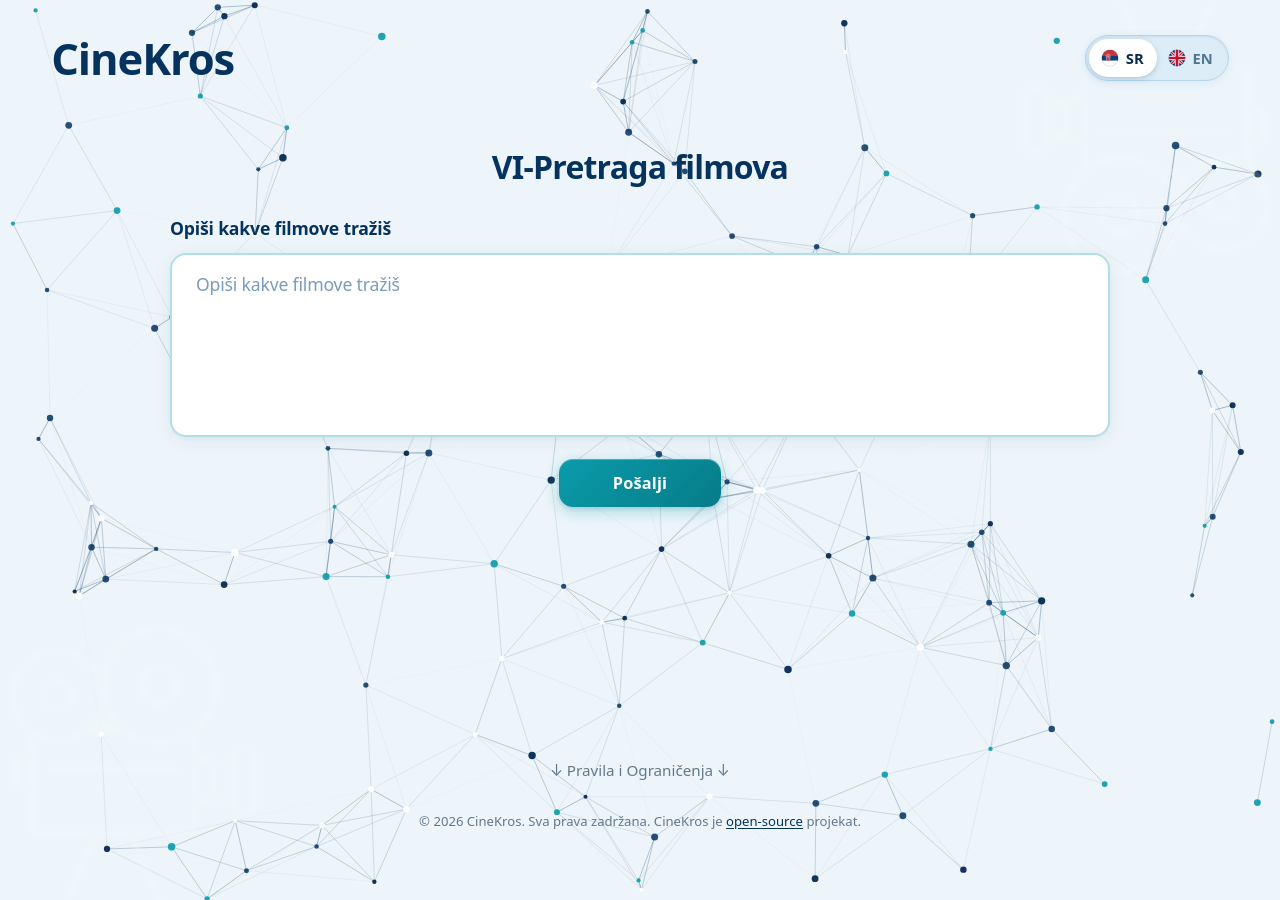
Test: language-aware v2.1 recommendation boundary › uses the selected English mode and exact English mismatch copy
The image size is (1280, 900).
Click the button "EN": (1190, 58) x1=1156 y1=39 x2=1225 y2=77
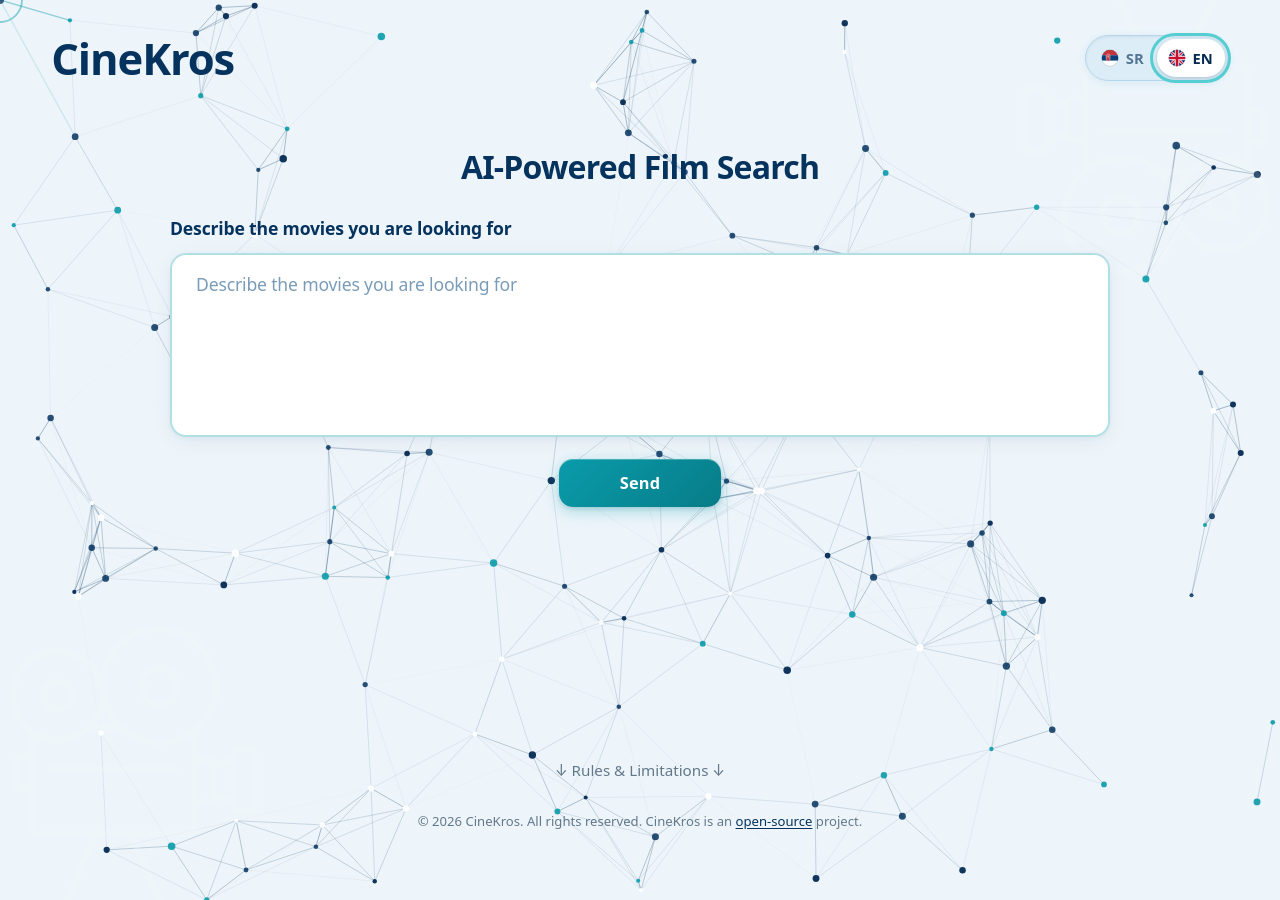
In the text box: (640, 345) x1=170 y1=253 x2=1110 y2=437, type "Želim mračan film"
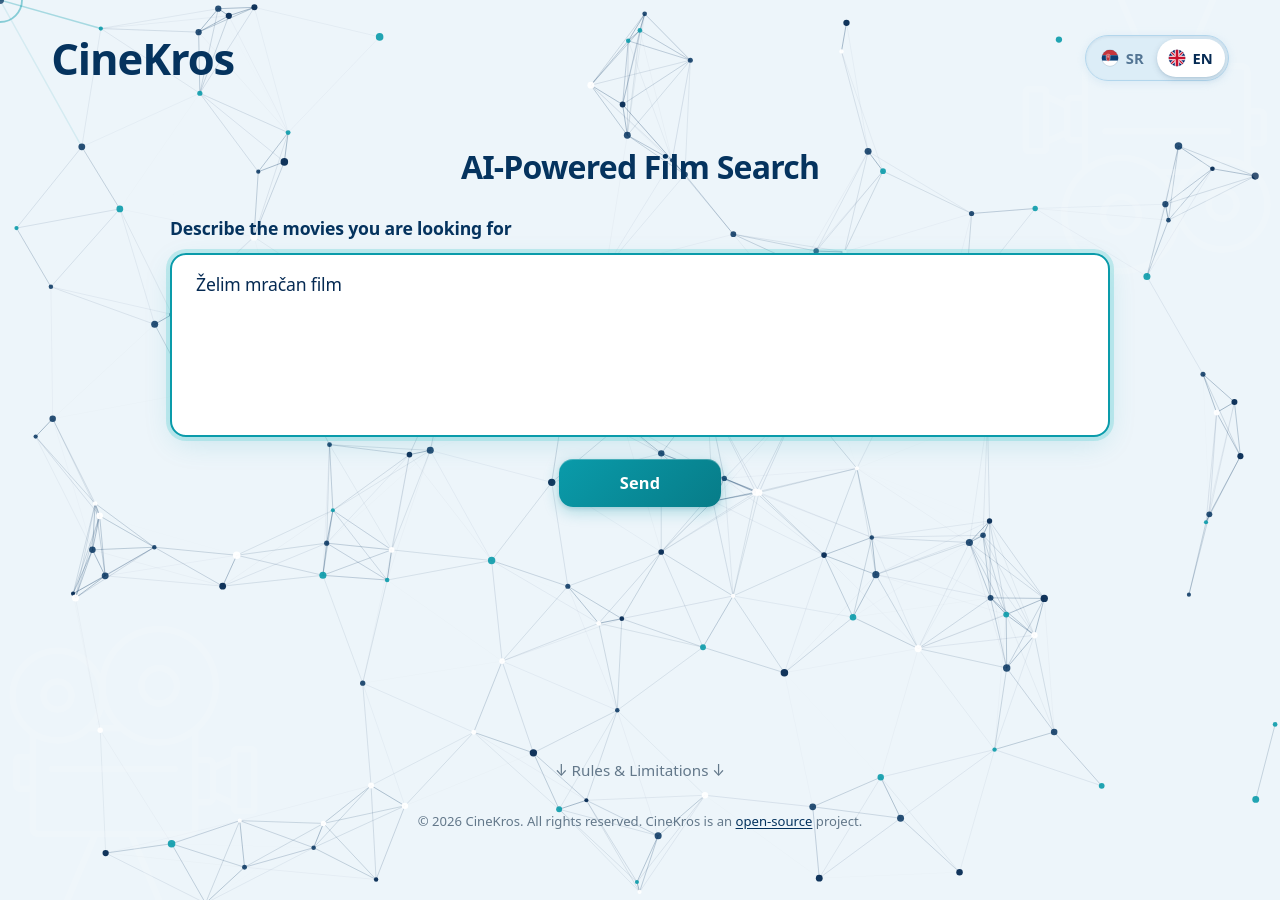
Click the button "Send": (640, 483) x1=559 y1=459 x2=721 y2=507
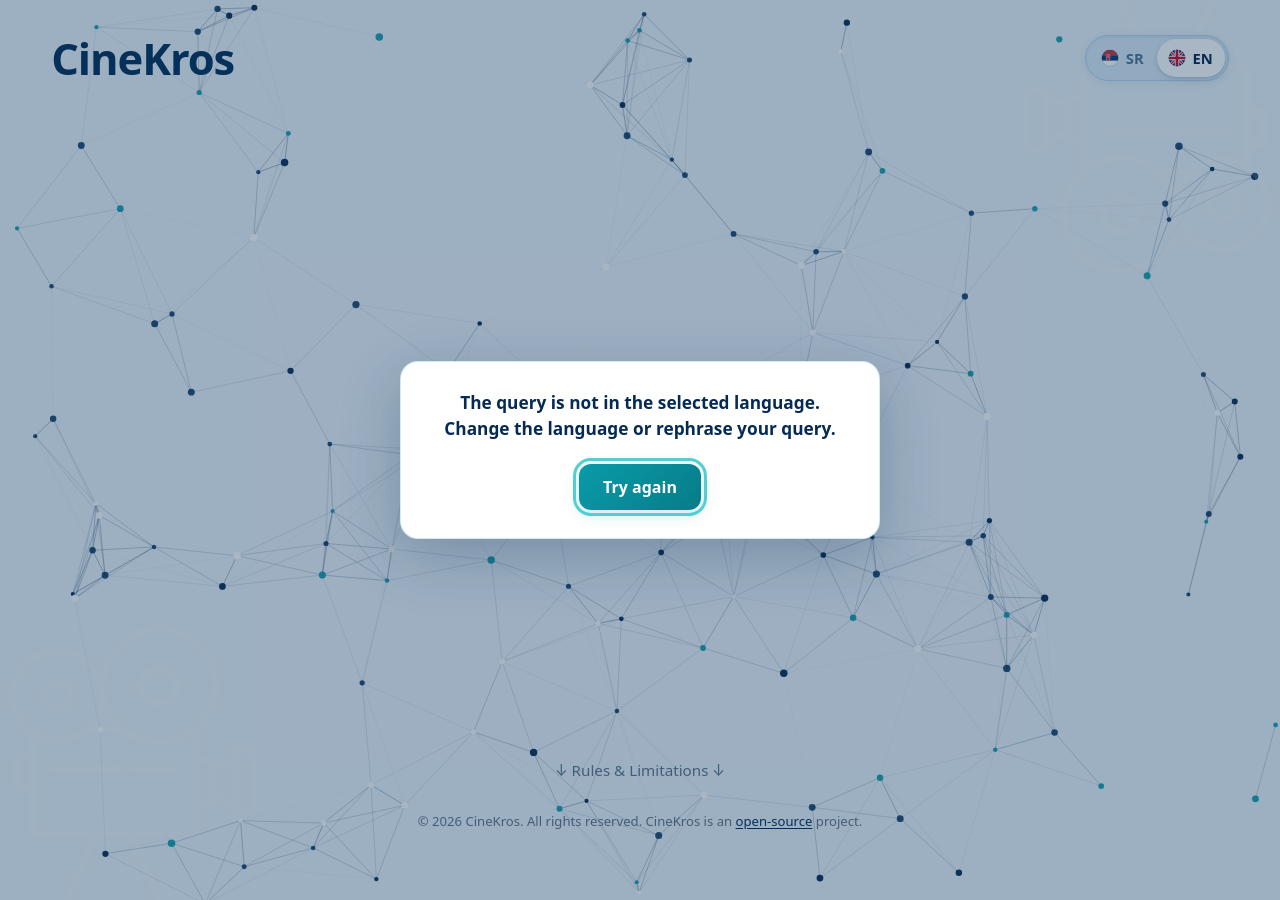
Check: the text "The query is not in the selected language. Change the language or rephrase your query." is shown, box x1=444 y1=391 x2=836 y2=440
